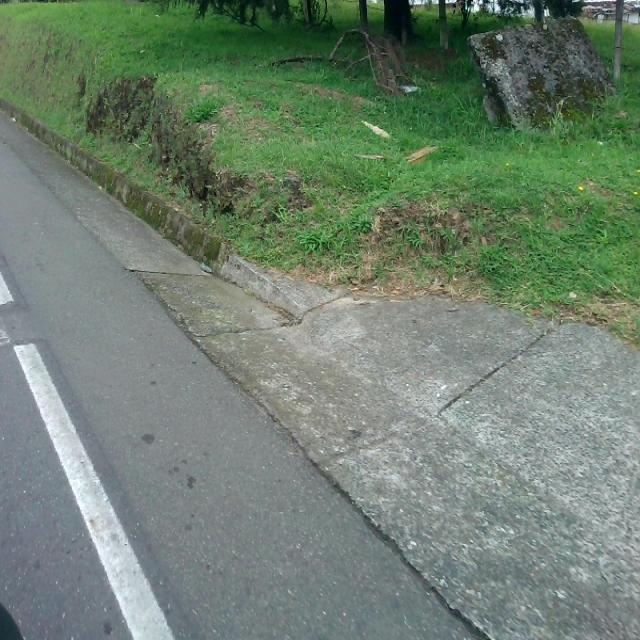DITCH: (1, 100, 638, 638)
